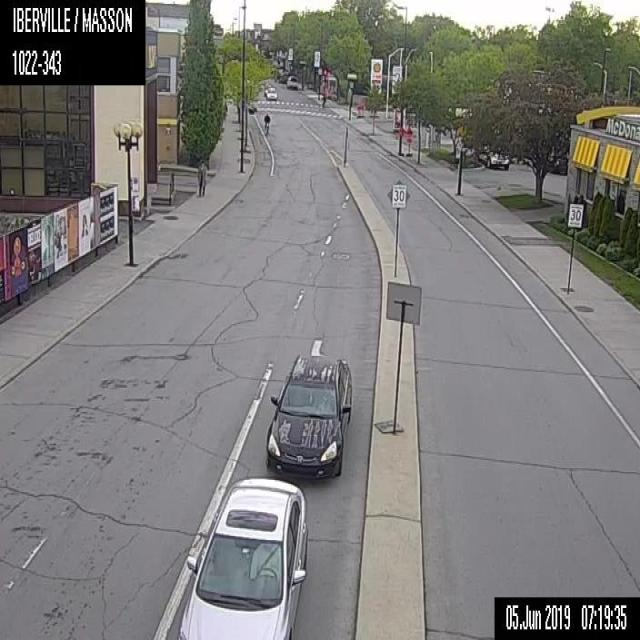construction: (404, 125, 414, 156), (356, 102, 362, 119)
cyclist: (263, 111, 270, 134), (319, 92, 326, 112)
pedestrian: (197, 161, 206, 196)
vehicle: (176, 478, 307, 638), (263, 356, 355, 482), (285, 75, 297, 89), (266, 86, 276, 99)
